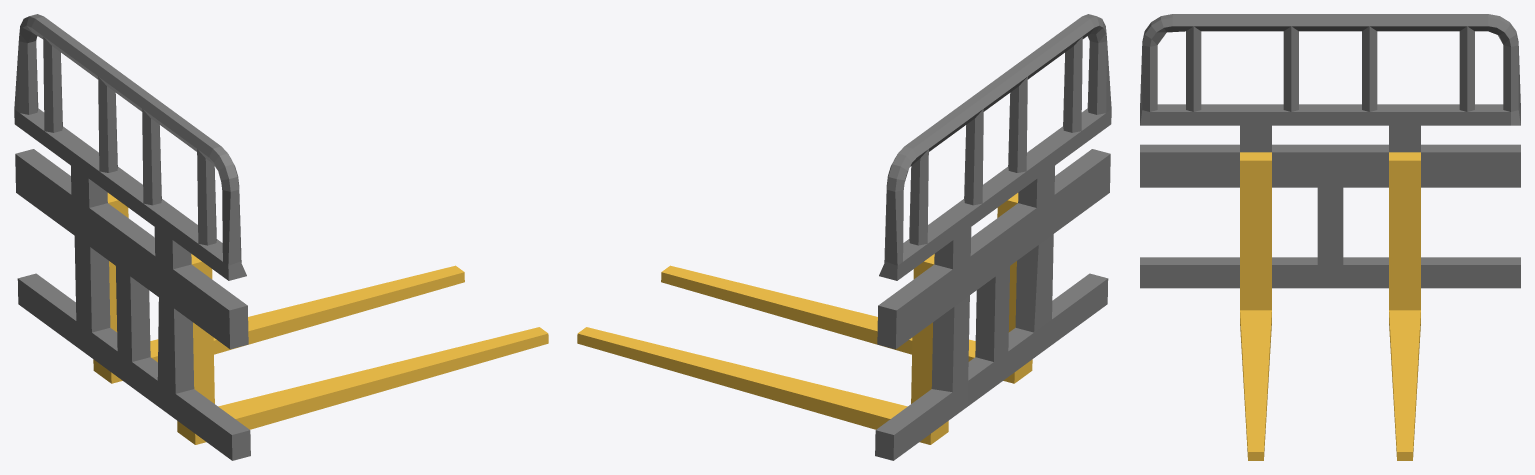
Rendered from fork.glb.
The picture shows the model from 3 angles, left to right: view 1: azimuth 30°, elevation 25°; view 2: azimuth 150°, elevation 25°; view 3: azimuth 270°, elevation 25°; orthographic projection. The views are drawn at different scales.
Visible parts, largest first — view 1: Cylinder.001; view 2: Cylinder.001; view 3: Cylinder.001.
Boxes of the visible parts, x1,y1,x2,y2 form: Cylinder.001: (14, 14, 548, 460); Cylinder.001: (577, 14, 1111, 460); Cylinder.001: (1140, 14, 1520, 460).
Size of the model in its own units: 4.22 by 3.48 by 4.09.
